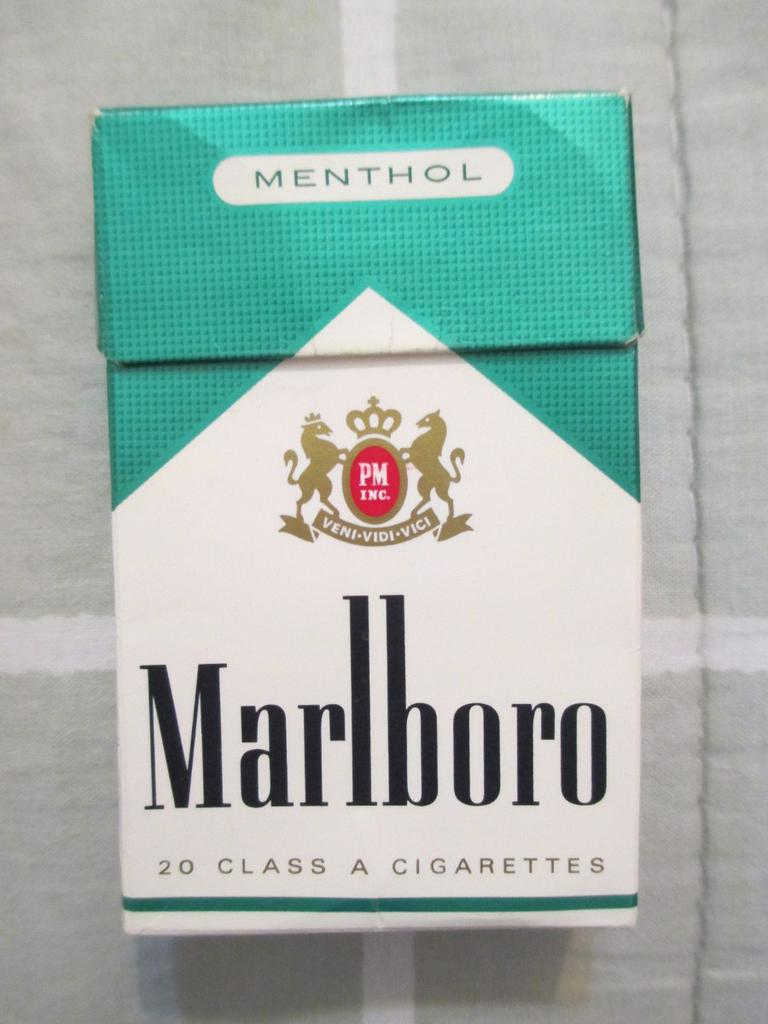marlboro_mentol: (108, 102, 642, 933)
